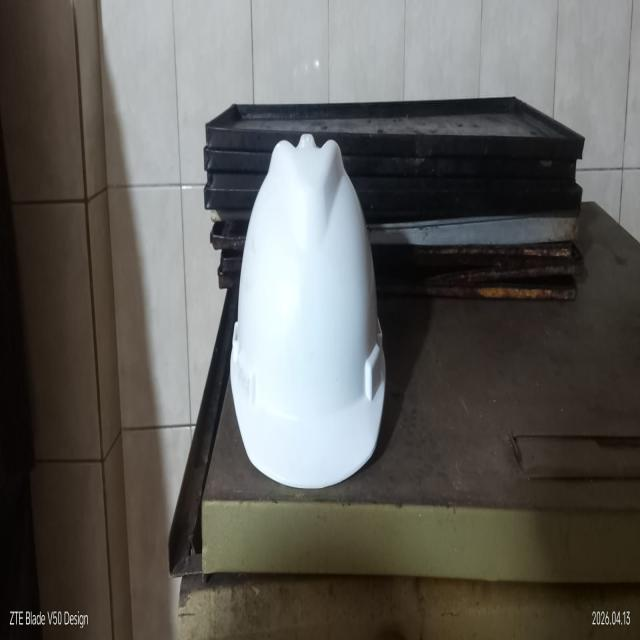casco: (226, 120, 399, 509)
